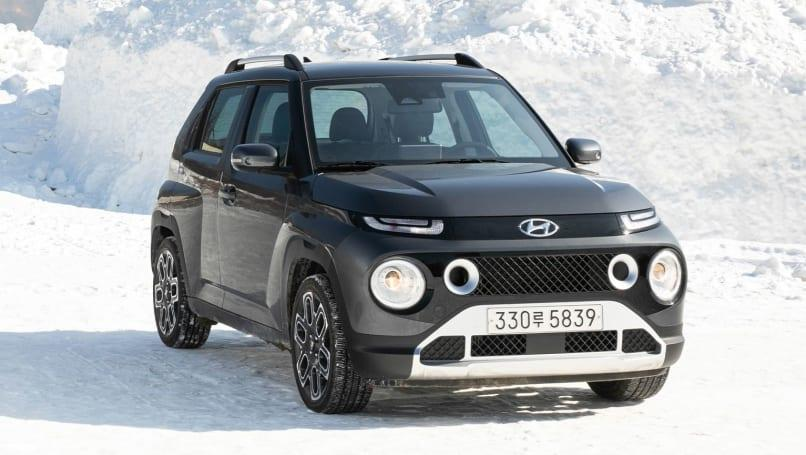windshield: (294, 72, 576, 181)
